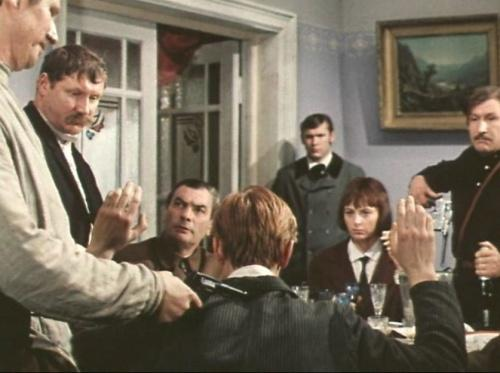Gun: (184, 269, 249, 306)
